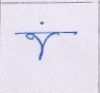anusvara: (40, 22, 44, 24)
